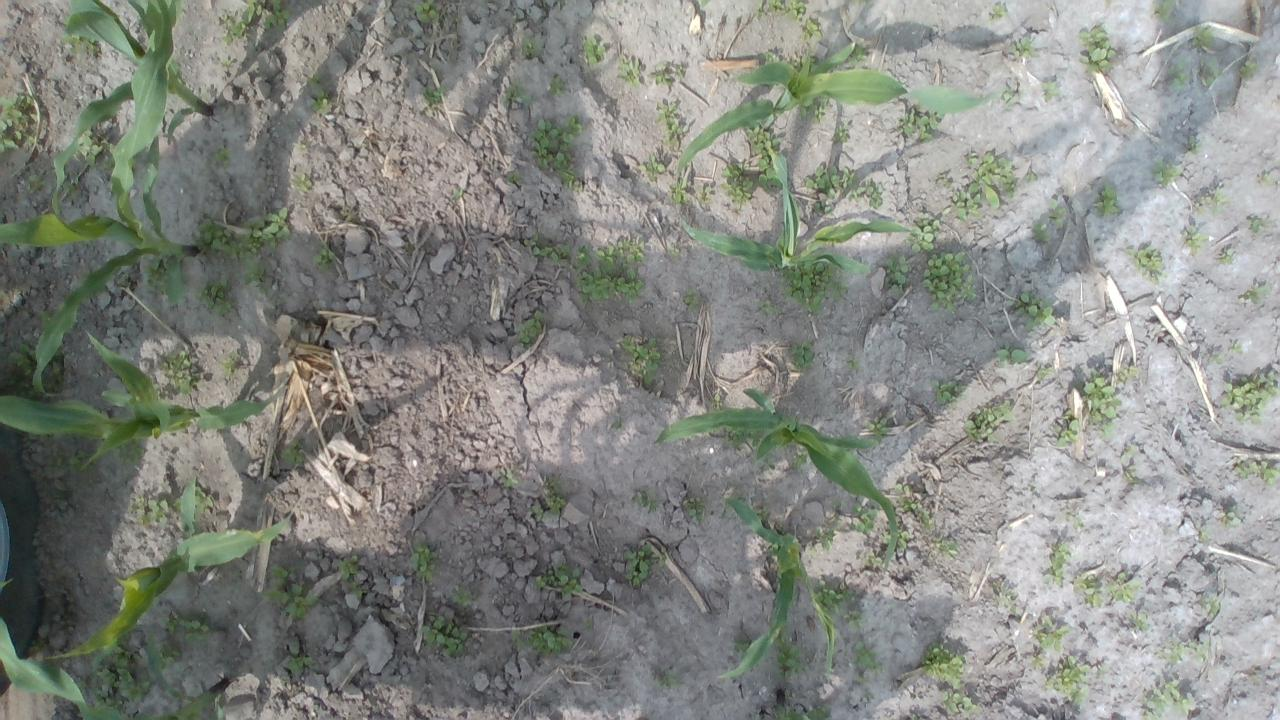Maize: (0, 0, 203, 398), (677, 42, 978, 198), (50, 477, 298, 661), (654, 387, 900, 567), (0, 326, 274, 471), (54, 0, 212, 223), (0, 576, 231, 720), (675, 144, 913, 278), (716, 492, 839, 679)
Weeds: (79, 628, 177, 712), (190, 207, 292, 259), (574, 240, 648, 308), (526, 114, 584, 188), (260, 560, 319, 622), (921, 251, 978, 315), (781, 262, 850, 314), (1218, 369, 1278, 424), (966, 150, 1018, 210), (1080, 372, 1121, 441), (1042, 654, 1090, 707), (918, 639, 968, 689), (804, 162, 865, 200), (746, 122, 782, 186), (0, 89, 37, 151), (158, 609, 212, 651), (511, 624, 576, 658), (218, 0, 263, 49), (962, 400, 1014, 442), (622, 334, 662, 388), (1078, 24, 1118, 77), (420, 616, 468, 660), (160, 351, 208, 395), (1144, 679, 1194, 720), (894, 482, 935, 530), (192, 278, 237, 320), (895, 107, 944, 144), (529, 474, 566, 522), (1126, 244, 1168, 285), (812, 574, 857, 612), (653, 100, 689, 146), (1013, 292, 1056, 330), (774, 635, 808, 682), (622, 544, 656, 590), (75, 131, 115, 170), (235, 258, 274, 298), (336, 553, 368, 601), (1032, 614, 1070, 654), (850, 640, 886, 682), (126, 492, 168, 528), (306, 68, 338, 115), (408, 538, 440, 584), (524, 232, 568, 265), (721, 162, 754, 206), (882, 250, 910, 300), (47, 448, 97, 475), (1044, 540, 1072, 588), (1234, 458, 1280, 487), (908, 214, 942, 252), (943, 190, 984, 221), (500, 78, 538, 110), (4, 339, 36, 375), (284, 636, 314, 674), (1106, 572, 1140, 605), (848, 503, 881, 536), (1092, 182, 1122, 218), (928, 377, 966, 405), (262, 0, 294, 33), (1072, 574, 1104, 607), (515, 310, 544, 346), (1150, 158, 1184, 188), (754, 0, 804, 20), (799, 92, 830, 124), (554, 567, 584, 600), (775, 703, 833, 720), (1194, 190, 1230, 217), (943, 688, 977, 716), (1056, 412, 1082, 448), (617, 55, 643, 90), (580, 32, 606, 66), (44, 352, 65, 394), (1166, 56, 1192, 89), (144, 264, 170, 297), (995, 582, 1020, 616), (112, 440, 146, 465), (724, 426, 762, 448), (994, 343, 1026, 369), (1182, 224, 1207, 257), (859, 177, 884, 210), (638, 153, 666, 182), (1007, 35, 1038, 61), (311, 241, 335, 272), (790, 338, 814, 368), (654, 62, 684, 86), (1190, 24, 1216, 51), (1241, 282, 1271, 304), (935, 536, 960, 562), (863, 416, 888, 442), (798, 18, 825, 42), (193, 485, 216, 512), (65, 34, 96, 54), (1199, 58, 1221, 86), (814, 524, 836, 552), (449, 583, 473, 608), (28, 624, 48, 654), (212, 142, 235, 168), (1047, 198, 1069, 224), (518, 35, 544, 57), (414, 0, 437, 24), (546, 73, 568, 98), (422, 83, 448, 104), (165, 54, 183, 84), (632, 494, 660, 513), (1188, 638, 1210, 662), (222, 350, 242, 376), (684, 286, 704, 312), (998, 86, 1021, 108), (280, 445, 304, 465), (1154, 0, 1174, 23), (150, 377, 169, 401), (669, 178, 687, 203), (686, 496, 704, 521), (791, 446, 808, 472), (1063, 509, 1085, 529), (1200, 596, 1222, 616), (844, 608, 866, 628), (1042, 78, 1060, 102), (1166, 640, 1184, 664), (1238, 57, 1258, 78), (1128, 611, 1150, 630), (1116, 366, 1141, 382), (988, 0, 1006, 22), (1220, 510, 1240, 529), (503, 470, 523, 489), (814, 200, 835, 218), (847, 46, 866, 65), (832, 126, 852, 144), (696, 186, 714, 206), (292, 172, 312, 190), (1031, 222, 1048, 243), (1248, 215, 1266, 234), (29, 173, 47, 192), (864, 552, 884, 568), (830, 499, 844, 521), (536, 570, 554, 587), (1256, 171, 1276, 186), (896, 530, 911, 550), (786, 52, 801, 72), (758, 300, 778, 315), (1187, 136, 1201, 156), (732, 638, 749, 654), (660, 671, 674, 690), (39, 310, 52, 330), (18, 382, 34, 398), (778, 436, 797, 449), (1038, 366, 1054, 380), (754, 506, 768, 522), (112, 271, 128, 285), (1215, 254, 1233, 266), (1030, 653, 1045, 667), (612, 415, 625, 431), (936, 172, 950, 186), (1228, 340, 1242, 354), (766, 542, 780, 556), (764, 50, 778, 64), (1123, 472, 1136, 486), (506, 171, 521, 183), (1208, 353, 1224, 364), (1198, 530, 1210, 544), (583, 617, 593, 633), (711, 394, 722, 408), (61, 181, 75, 192), (295, 142, 308, 153), (1124, 446, 1135, 458), (1024, 173, 1037, 183), (671, 245, 681, 258), (200, 88, 209, 102), (450, 187, 464, 196), (847, 358, 858, 369), (173, 496, 181, 511), (0, 286, 8, 300), (880, 532, 890, 542), (808, 55, 816, 67), (65, 207, 79, 213), (911, 712, 920, 720), (223, 58, 232, 66), (889, 552, 897, 560), (700, 0, 709, 7)
